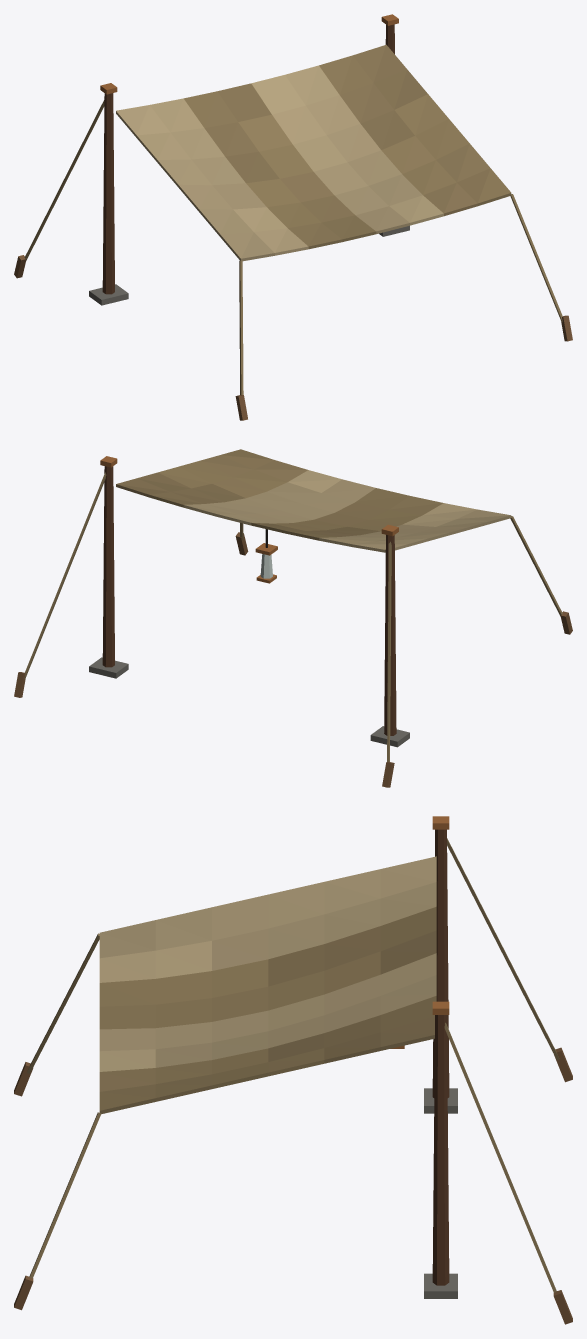
Rendered from camp_tarp.glb.
3 renders of one model, top to bottom at view 1: azimuth 30°, elevation 25°; view 2: azimuth 150°, elevation 25°; view 3: azimuth 270°, elevation 25°, orthographic. The views are drawn at different scales.
Visible parts, largest first — view 1: Body; view 2: Body; view 3: Body.
Part boxes in pixels (x1,y1,x2,y2): Body: (14, 14, 572, 420); Body: (14, 449, 572, 787); Body: (14, 816, 572, 1324).
Bounding box in the file's own units: 6.9 × 3.79 × 6.63.
